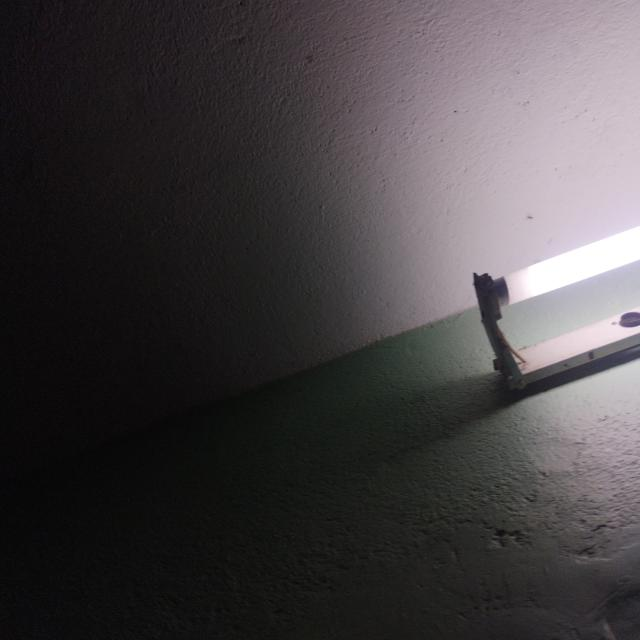tubelight_on: (469, 212, 640, 407)
